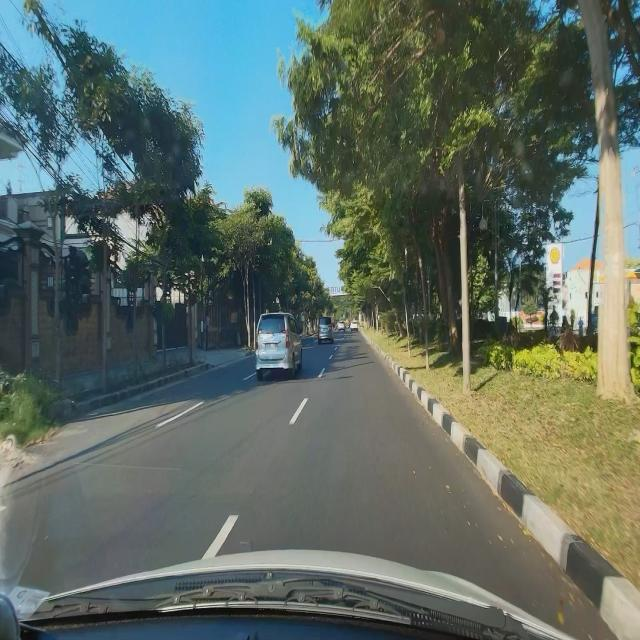car: (254, 308, 303, 384), (317, 315, 334, 346)
